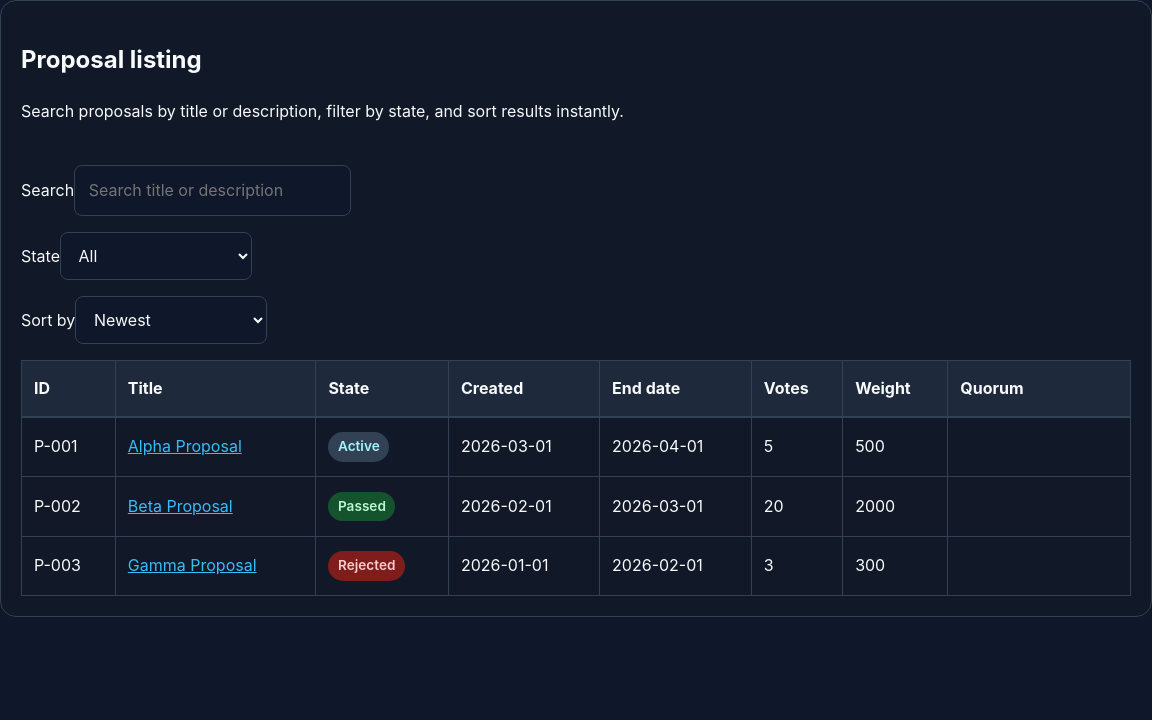
it: ProposalList › shows a filter empty state with a clear filters action
Type "missing" into the search field named "search proposals".
click(213, 191); type("missing")  # box [74,165,351,216]
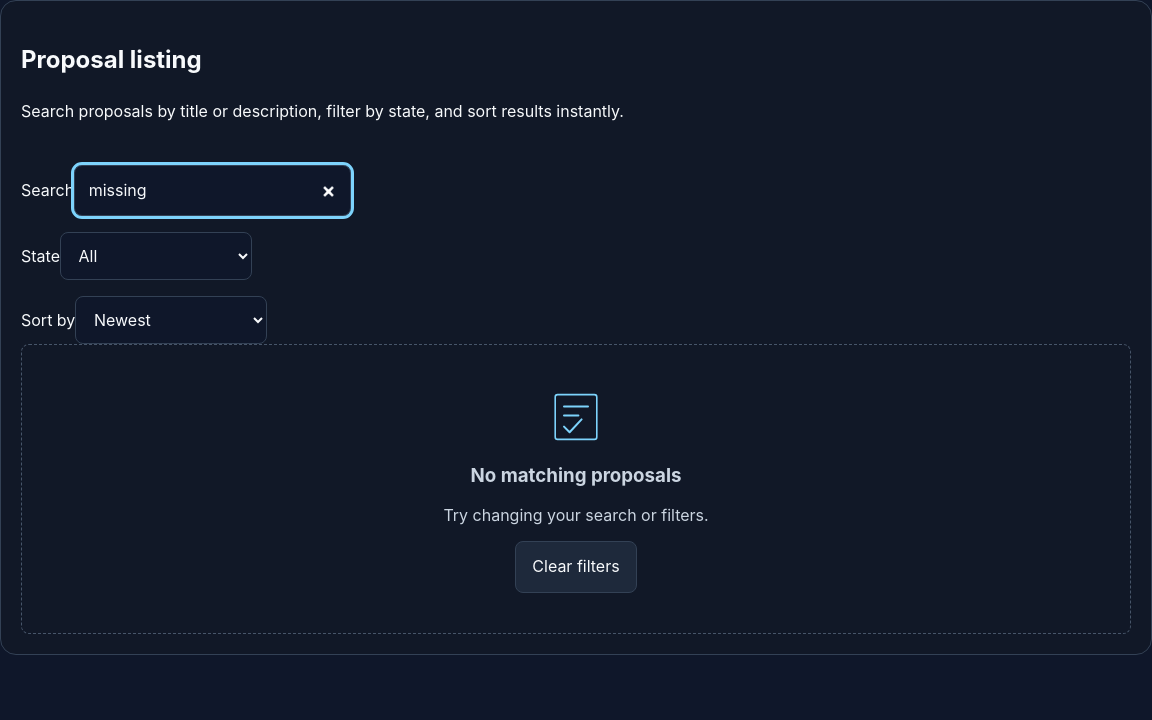
Check: the message shows "No matching proposals", box [470,464,681,487]
Click the button "Clear filters".
click(576, 567)  # box [515,541,637,592]
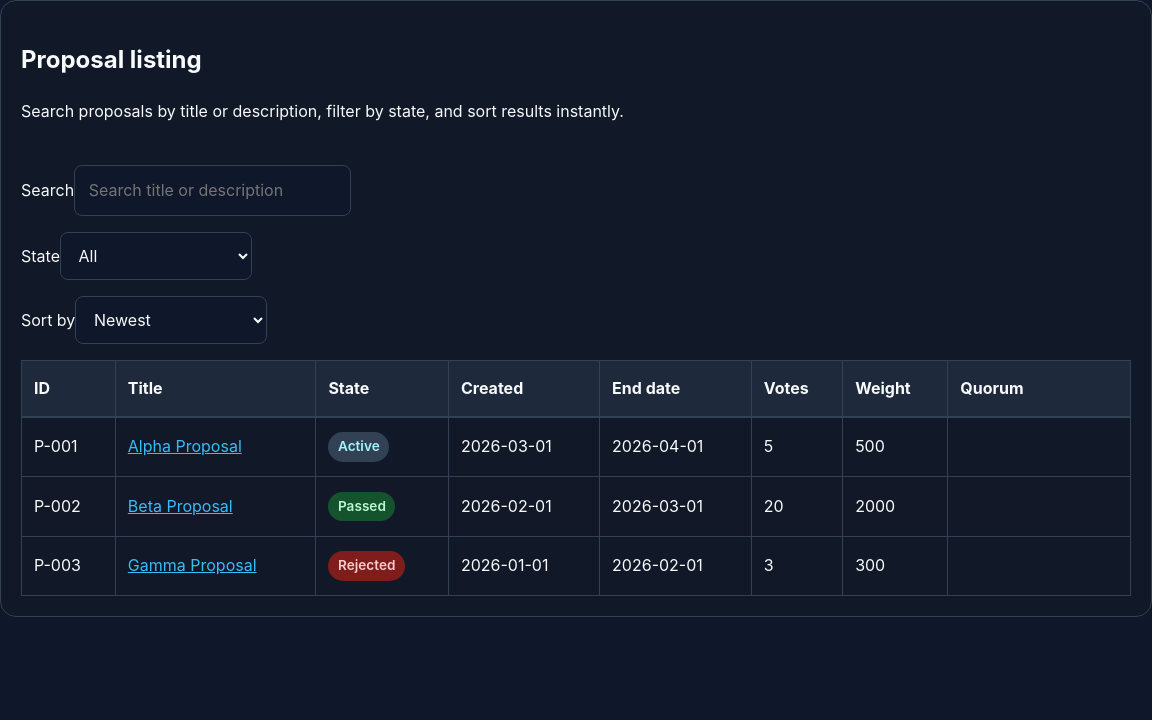
Check: the link "Alpha Proposal" is shown, box [128,436,242,456]
Check: the button "Clear filters" is gone
